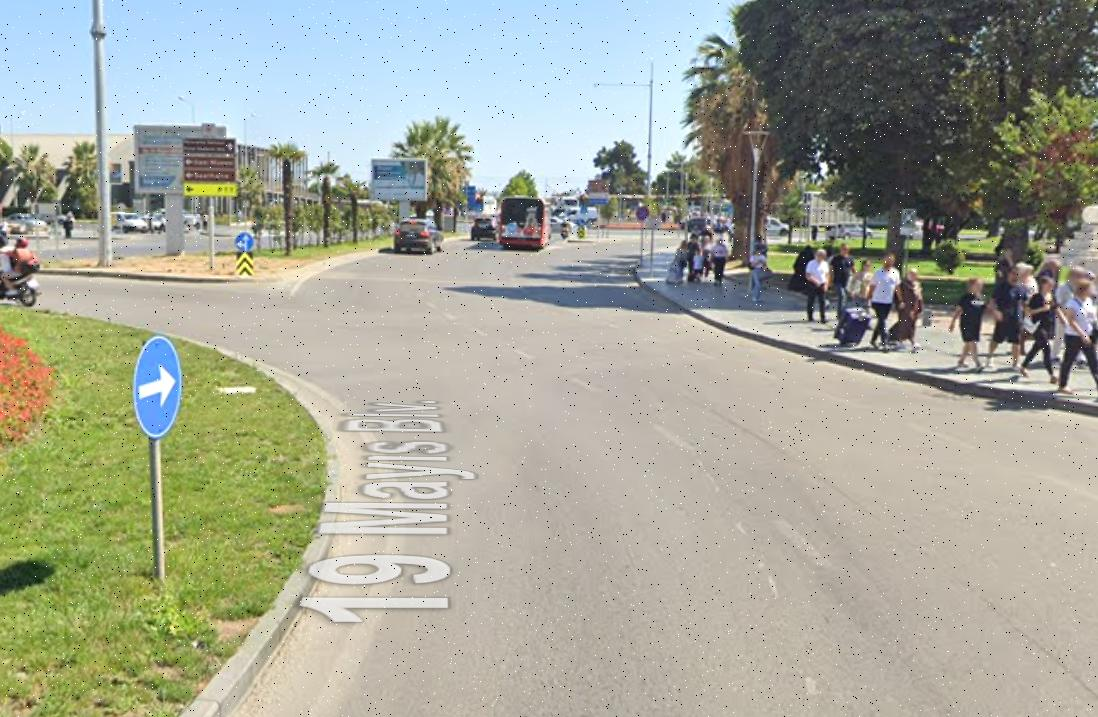turnright: (133, 341, 184, 437)
